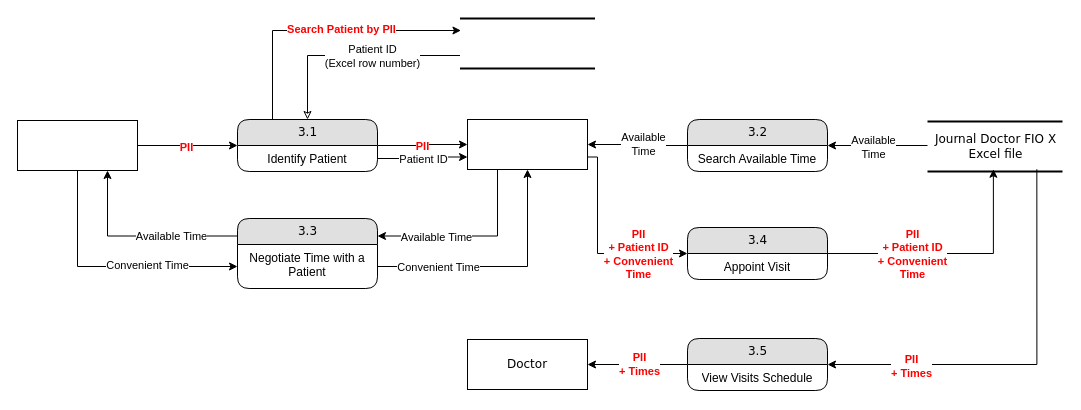
The diagram is 1081 pixels wide and 410 high, and some of its shapes have lost their labels. Here are the shapes that lost their labels. From the top down, the centre of each, then its label:
At pixel 527 43: "Patients Excel file".
At pixel 77 145: "Patient".
At pixel 527 144: "Reception".
